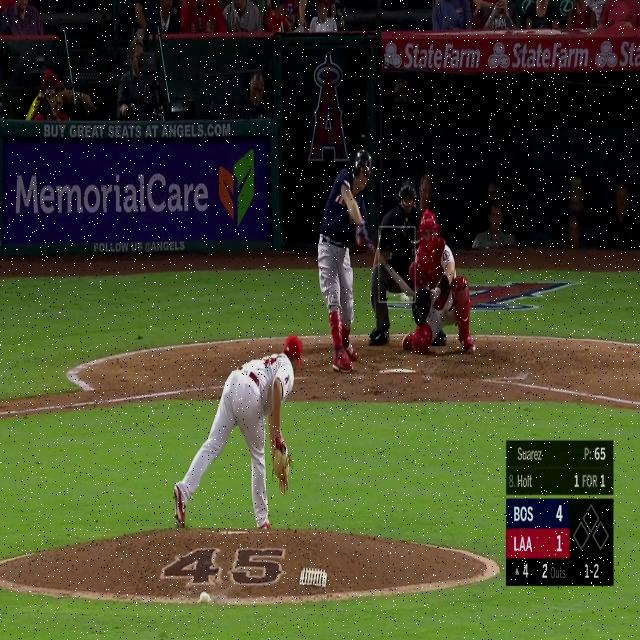baseball: (402, 292, 408, 304)
